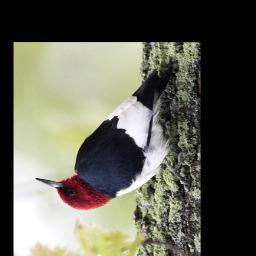Woodpecker: (27, 59, 186, 213)
